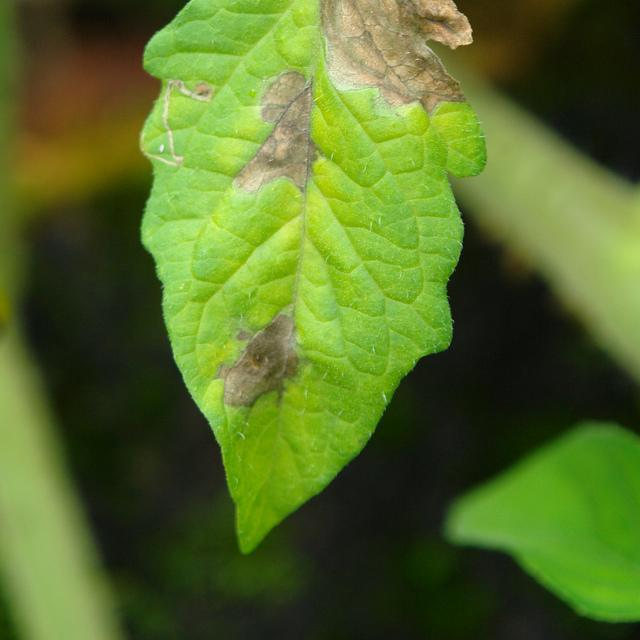Tomato leaf late blight: (127, 0, 495, 571)
